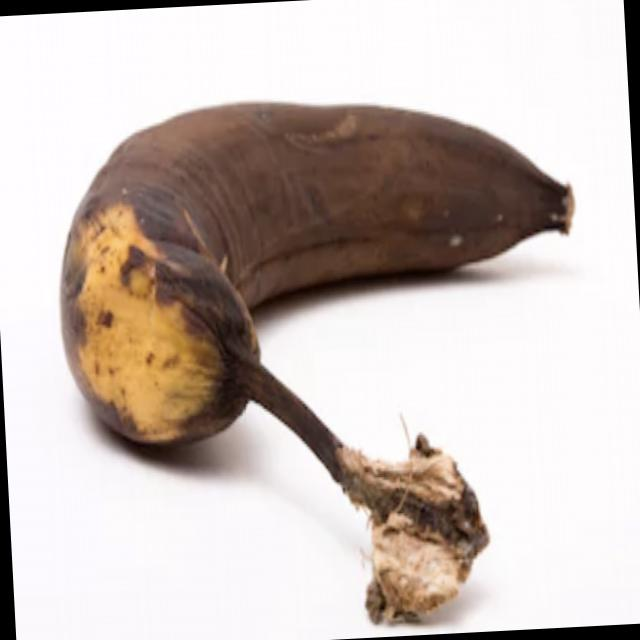rotten-banana: (48, 76, 588, 508)
